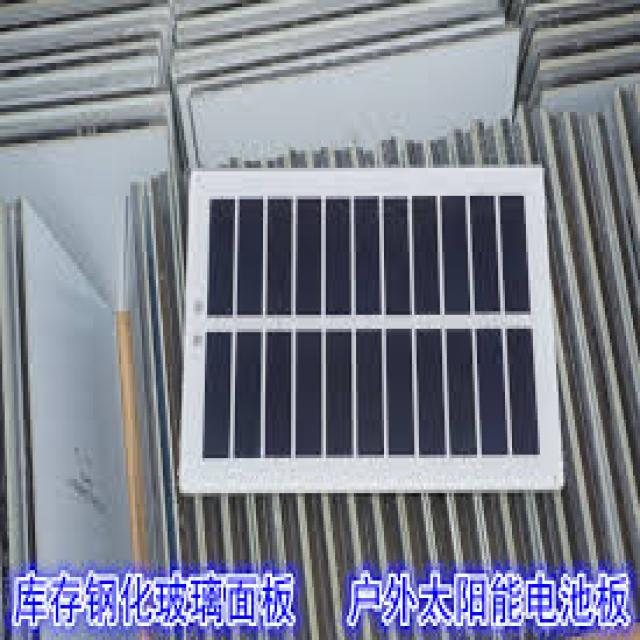no faulty: (204, 200, 544, 452)
